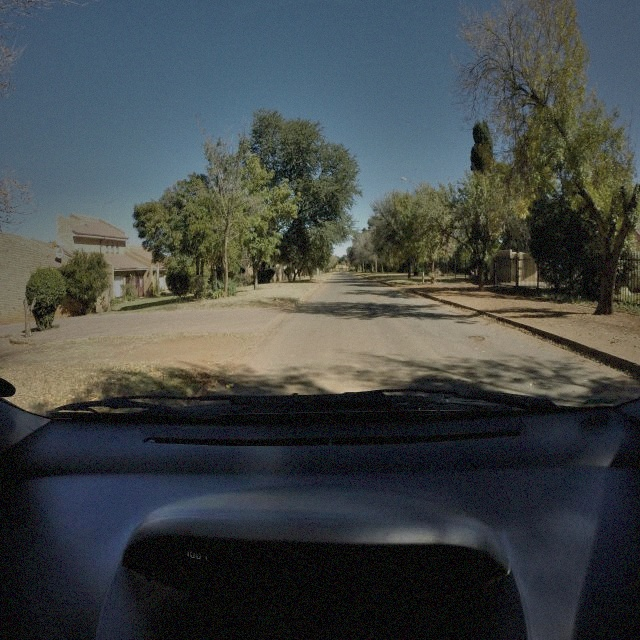pothole: (467, 333, 487, 343)
